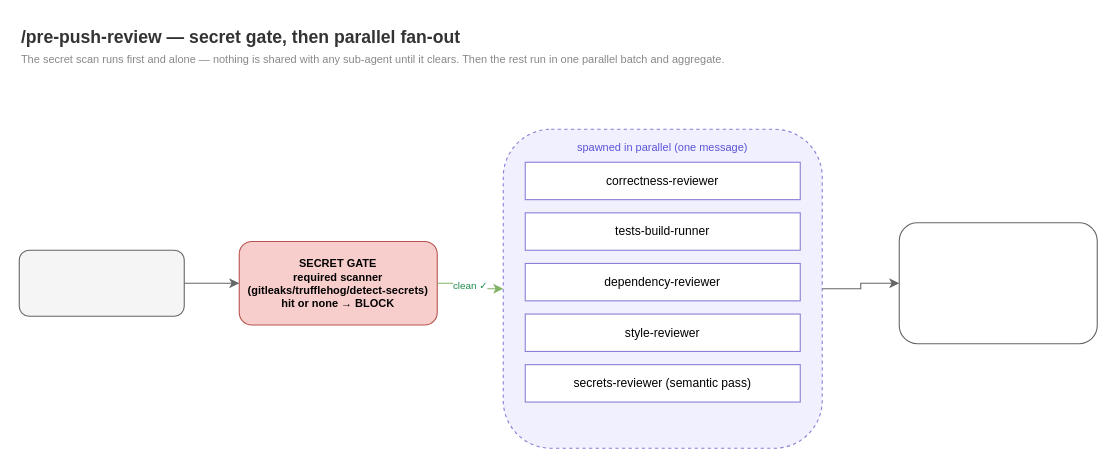
Image size: 1117x468. Some labels were removed from this diagram. The shapes that lost their labels are listed below. From the top down, each one's centre as x and y in pixels, then its label:
(101,282): diff snapshot (staged+unstaged+unpushed, after diff hygiene)
(997,283): AGGREGATE PASS / WARN / BLOCK + report artifact + exit code
